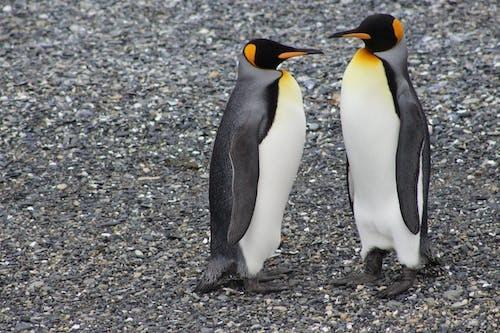king: (173, 11, 319, 316), (315, 14, 457, 312)
